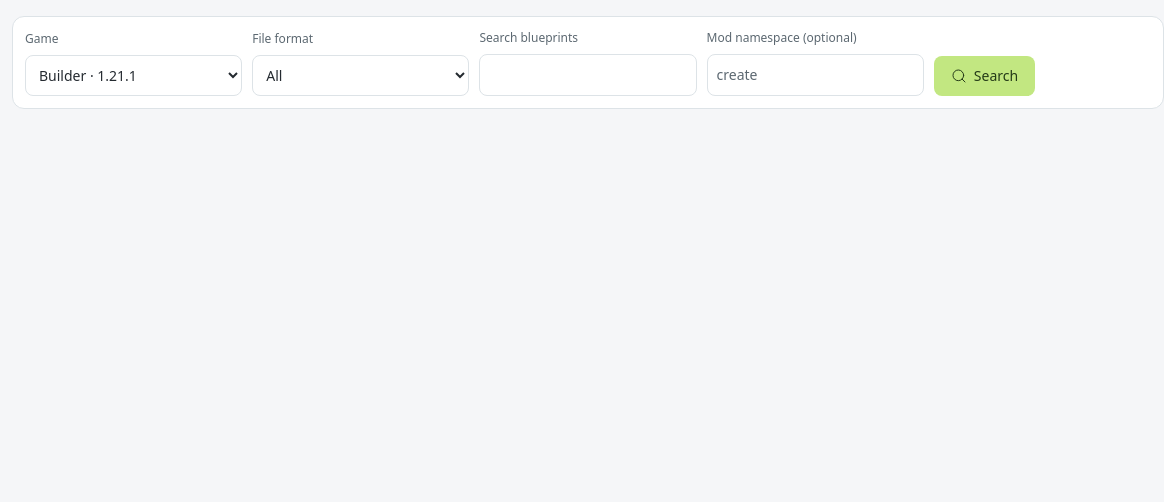
renders the detail license exactly and keeps an unknown license unknown (null)
Submit the form, box x1=12 y1=16 x2=1163 y2=109
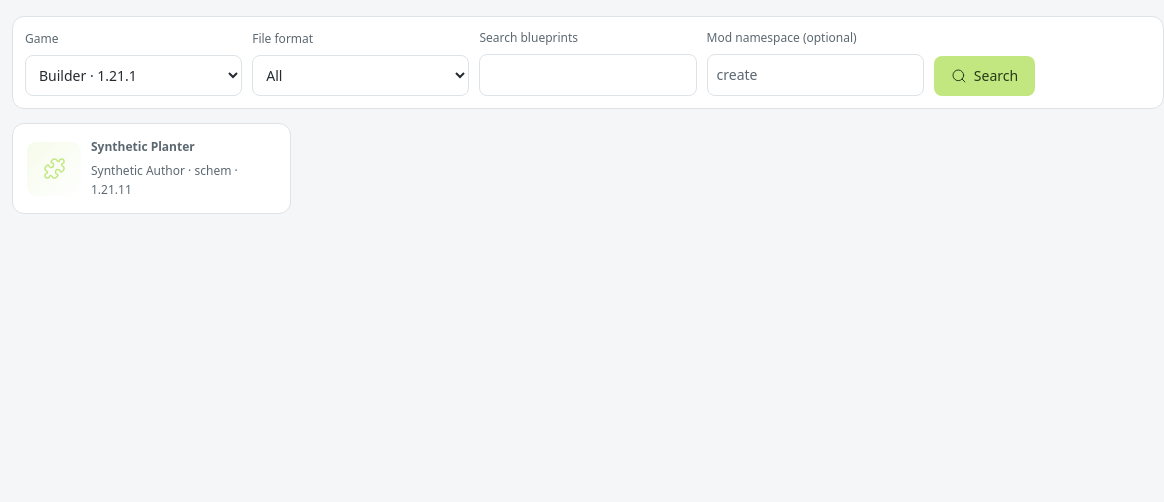
Click the button "Synthetic Planter Synthetic Author · schem · 1.21.11" at [152, 169], box x1=23 y1=134 x2=280 y2=203
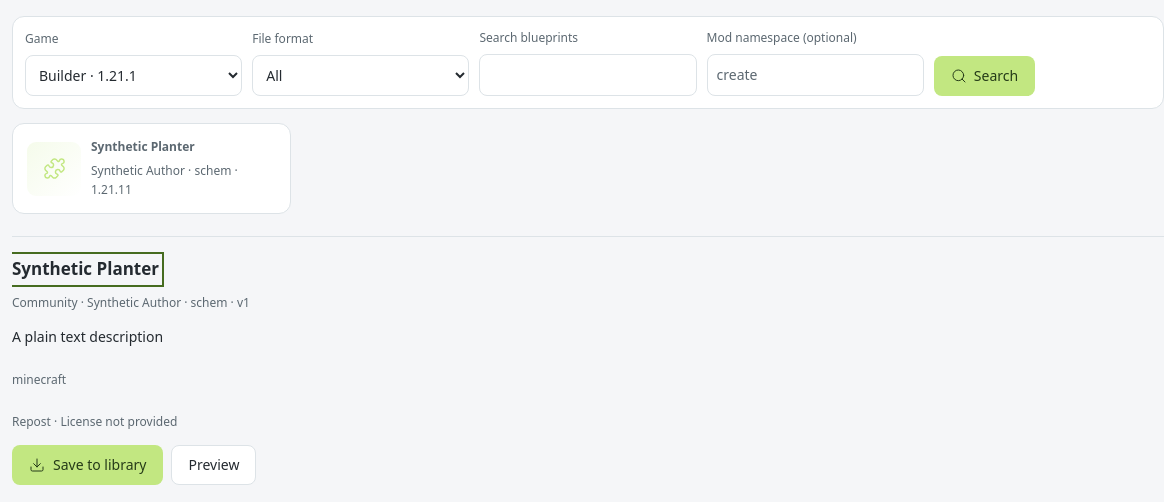
Expected: the element with class "online-detail" shows "License not provided", x1=12 y1=413 x2=177 y2=430
